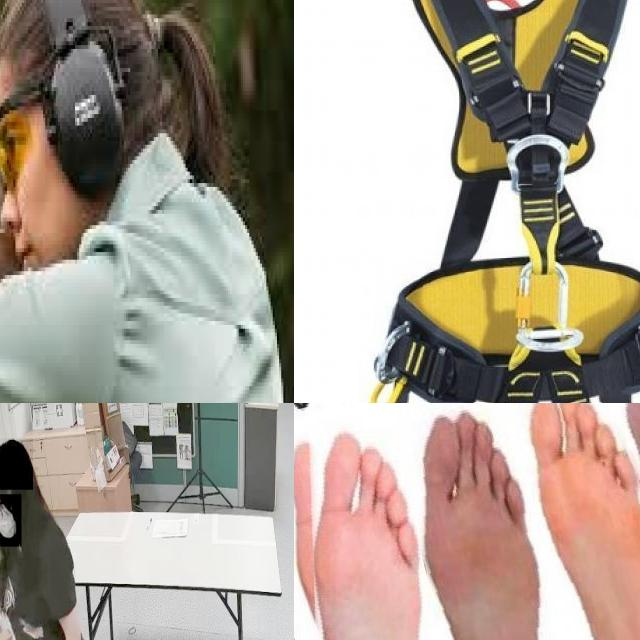Barefoots: (376, 403, 606, 640), (294, 403, 500, 640), (506, 403, 640, 640)
Ear-protection: (32, 0, 130, 190)
Harness: (370, 0, 640, 403)
face_mask: (0, 494, 21, 546)
head_nohelmet: (0, 438, 33, 490)
person: (0, 425, 96, 640)
